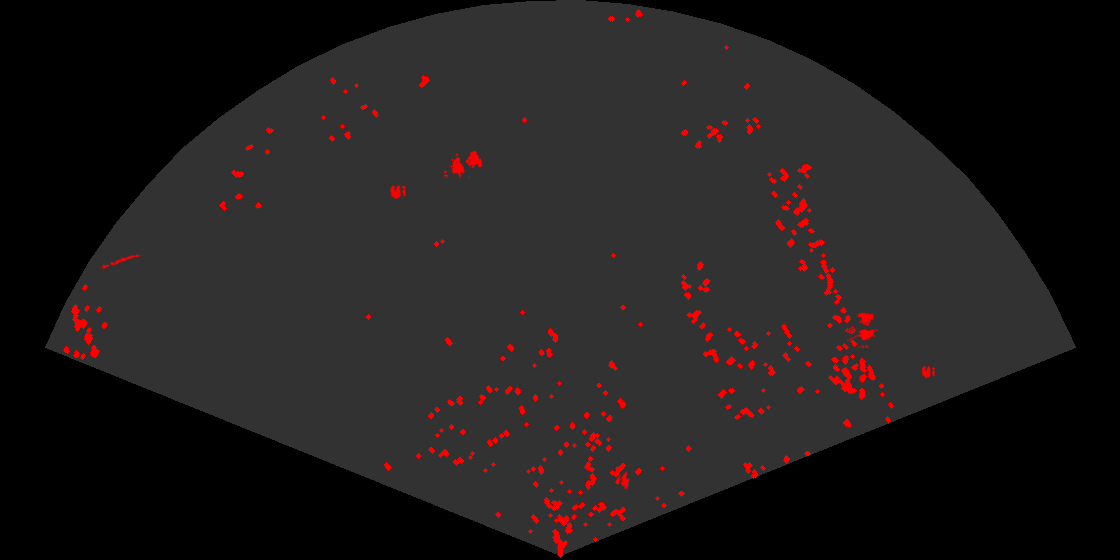AUV: (619, 470, 631, 491)
ball: (389, 184, 407, 201), (921, 364, 937, 380)
cage: (847, 311, 879, 348), (444, 149, 484, 178)
chain: (99, 253, 141, 272)
